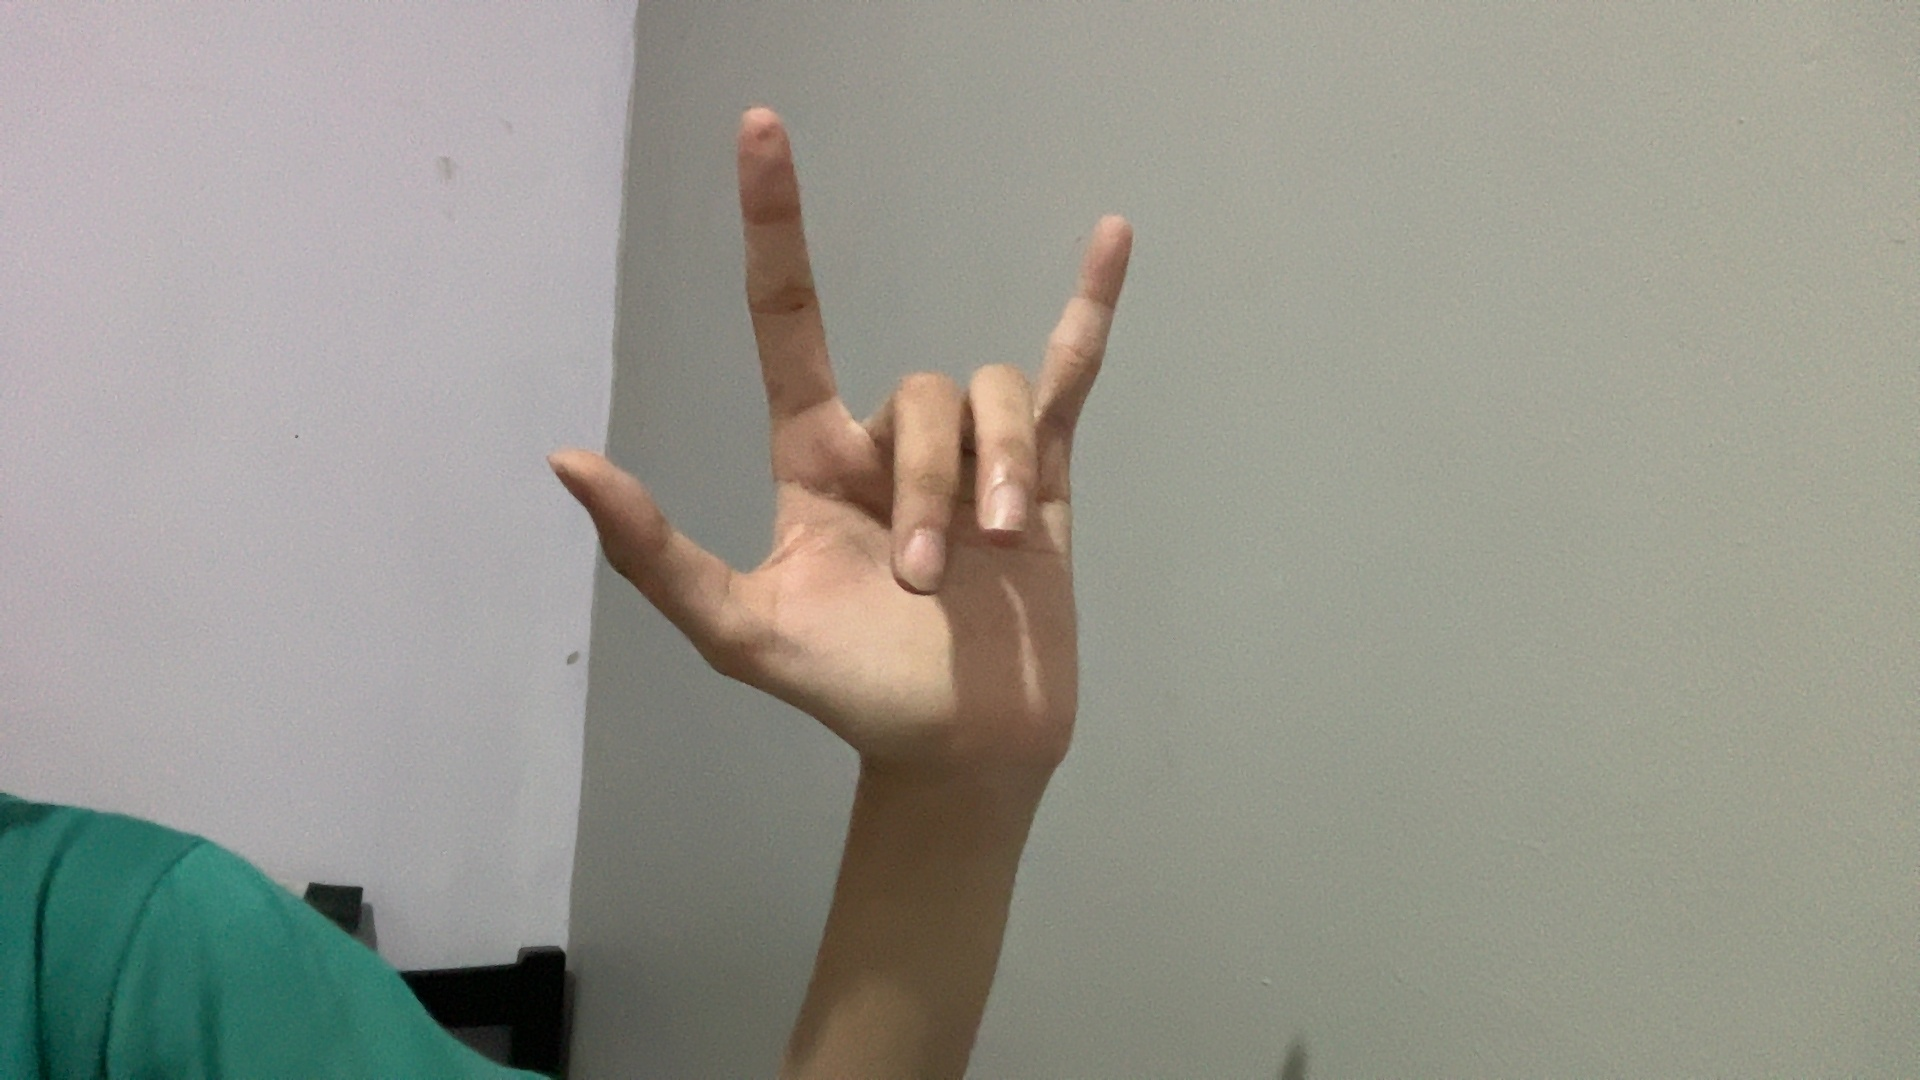I Love You: (433, 44, 1263, 843)
